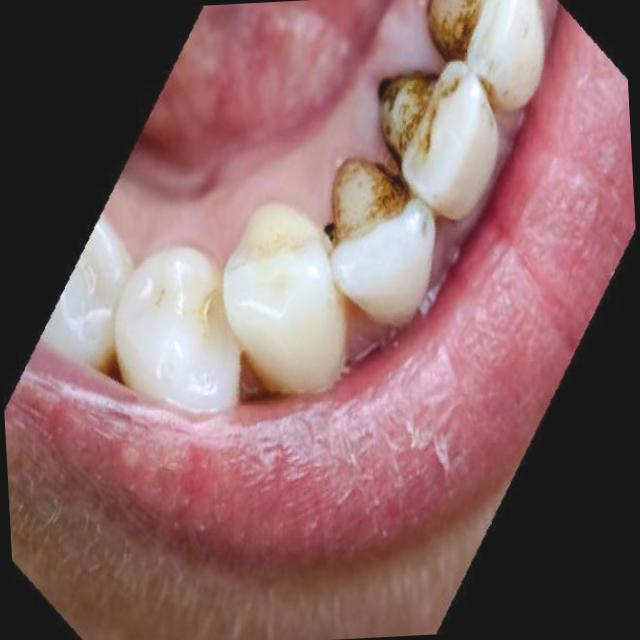calculus: (359, 45, 458, 146), (323, 124, 403, 243)
